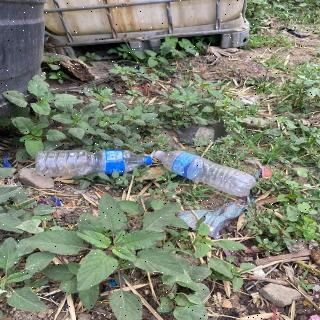Plastic-bottle: (153, 148, 260, 201), (30, 148, 155, 180)
